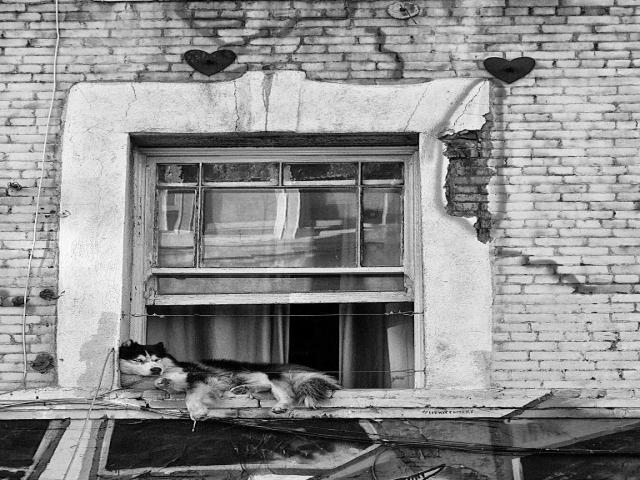Dog: (117, 338, 341, 427)
